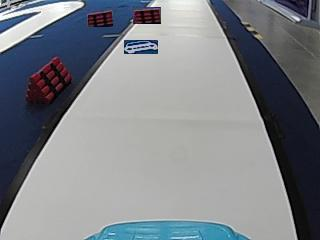bomb: (26, 53, 70, 104)
